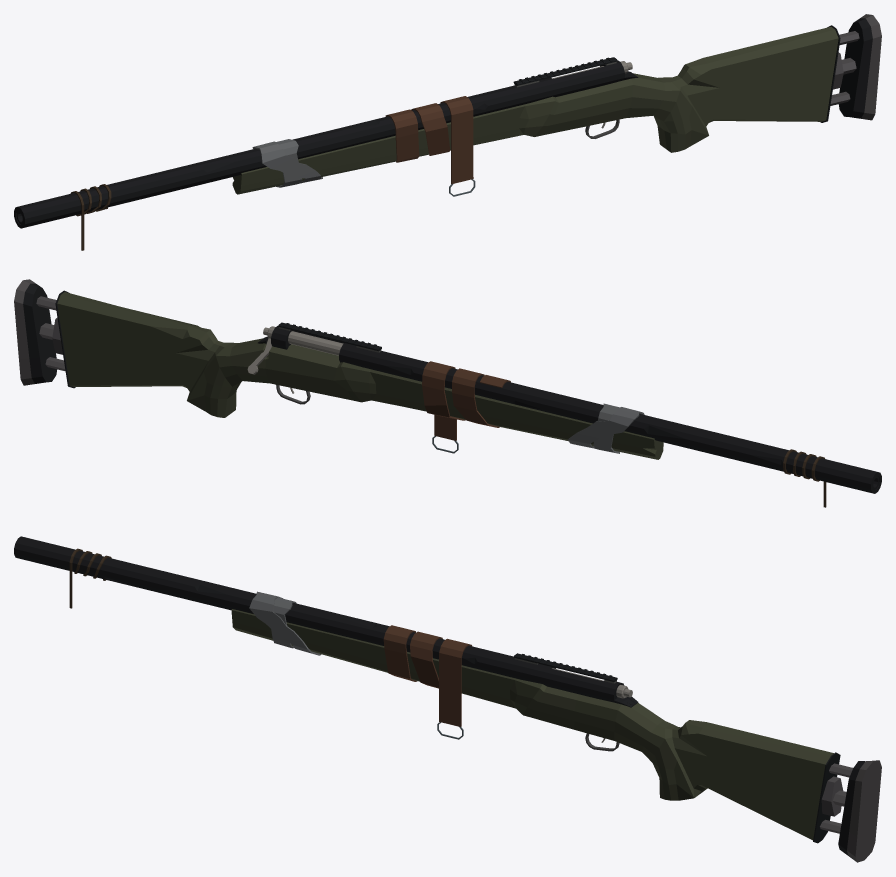
Rendered from Sniper_Rifle_02.gltf.
The picture shows the model from 3 angles, top to bottom: view 1: azimuth 30°, elevation 25°; view 2: azimuth 150°, elevation 25°; view 3: azimuth 330°, elevation 25°; orthographic projection.
Parts seen in each view (by area): view 1: Sniper_Rifle_02; view 2: Sniper_Rifle_02, Gate_06; view 3: Sniper_Rifle_02.
Part boxes in pixels (bbox=[...]): Sniper_Rifle_02: bbox=[14, 14, 881, 250]; Sniper_Rifle_02: bbox=[14, 279, 881, 507]; Gate_06: bbox=[247, 326, 343, 374]; Sniper_Rifle_02: bbox=[14, 536, 881, 862].
Bounding box in the file's own units: 1.25 × 0.17 × 0.0604.
